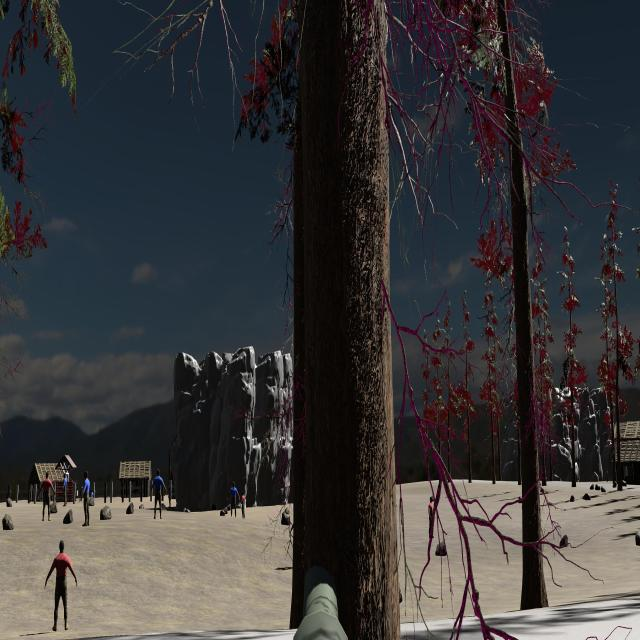Human: (45, 540, 77, 632), (150, 468, 167, 520), (38, 471, 55, 521), (81, 471, 91, 526), (228, 481, 240, 518)
